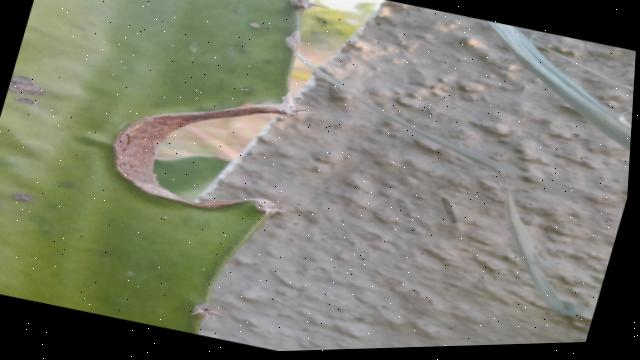stemcanker: (2, 71, 54, 111), (3, 188, 41, 209)
